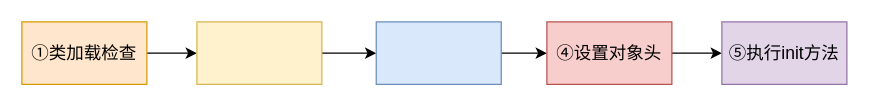
Image size: 869x106. Some labels were removed from this diagram. The centre of each missing label's shape, as x and y in pixels:
"②分配内存" goes at point 259,52.
"③初始化零值" goes at point 438,52.
